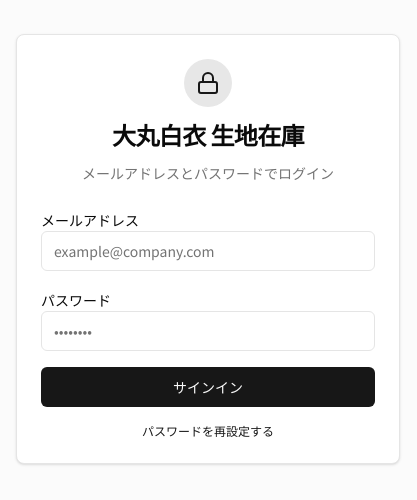
Test: LoginForm › セッション作成に失敗したらボタンが再び有効になる
In the field labelled "メールアドレス": [208, 251] box [41,231,375,271], type "test@example.com"
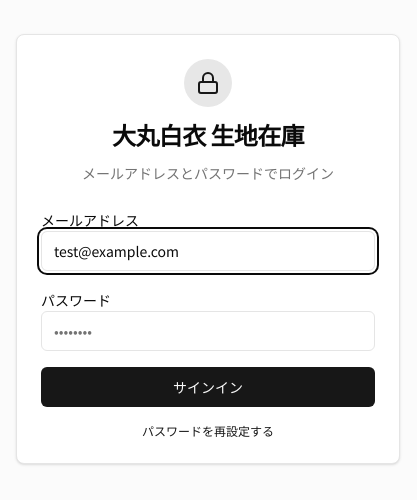
In the password field labelled "パスワード": [208, 331] box [41,311,375,351], type "password123"
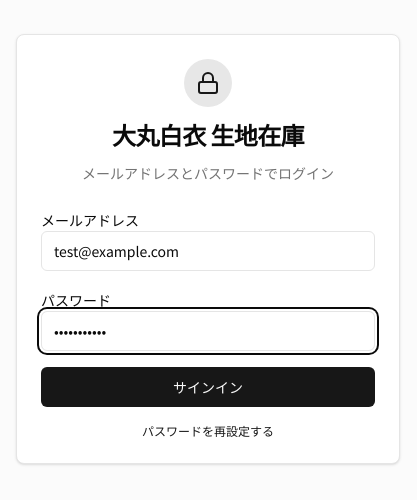
Click the button "サインイン": [208, 387] box [41,367,375,407]
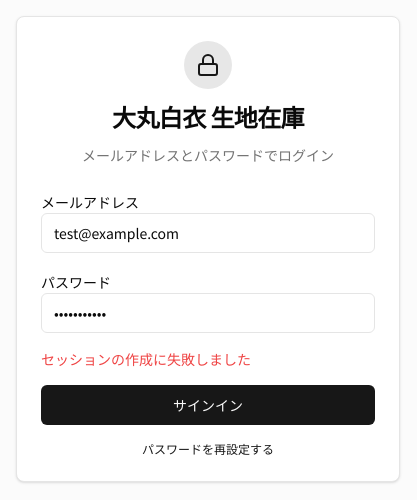
Check: the button "サインイン" is enabled, box [41,385,375,425]
Check: the text "セッションの作成に失敗しました" is shown, box [41,349,251,369]
